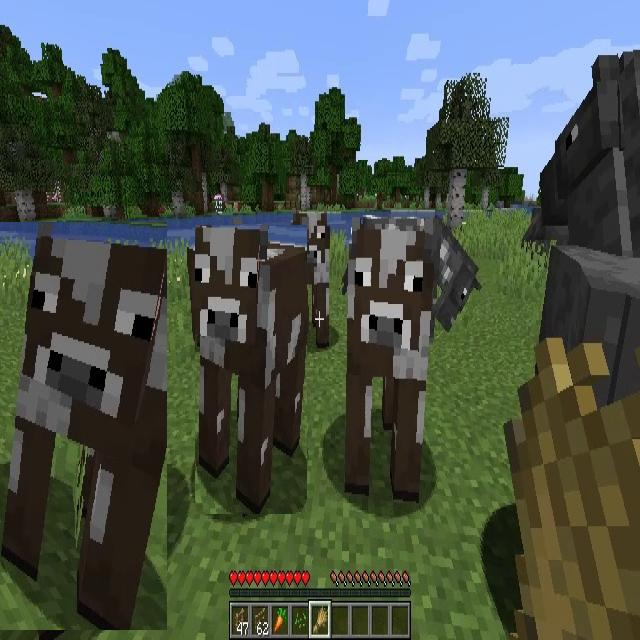cow: (0, 222, 167, 630), (195, 225, 307, 514), (347, 222, 430, 504), (289, 212, 329, 346)
